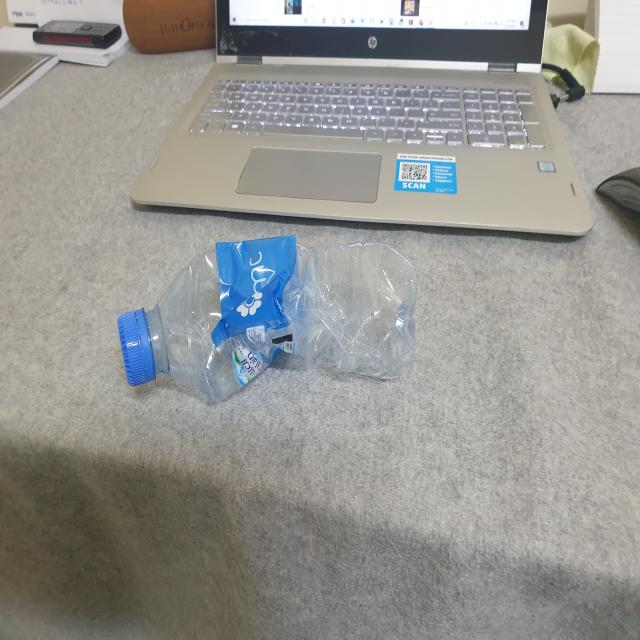bottle: (107, 238, 426, 397)
